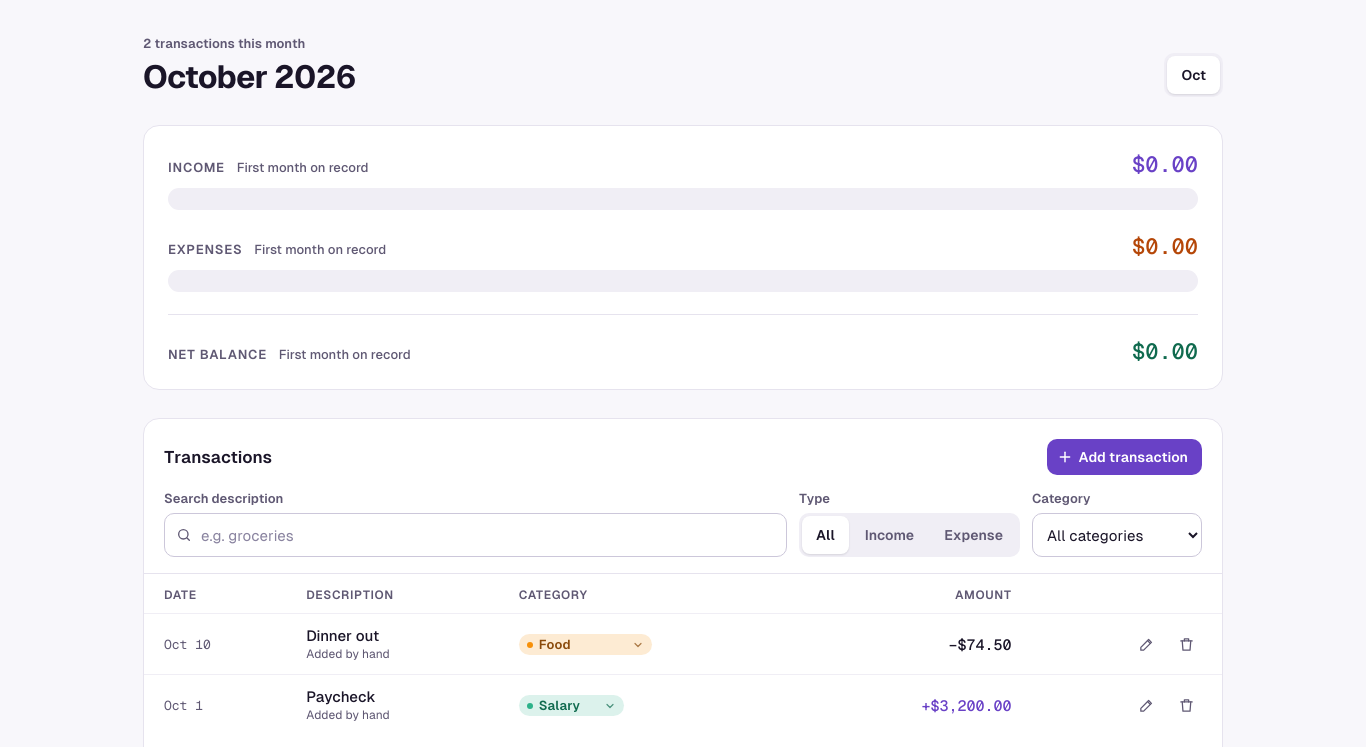
Test case: HomePage › adds a transaction from a dialog opened next to the Transactions title
Click the button "Add transaction" at (1124, 457), box top-left (1046, 439), bottom-right (1202, 475)
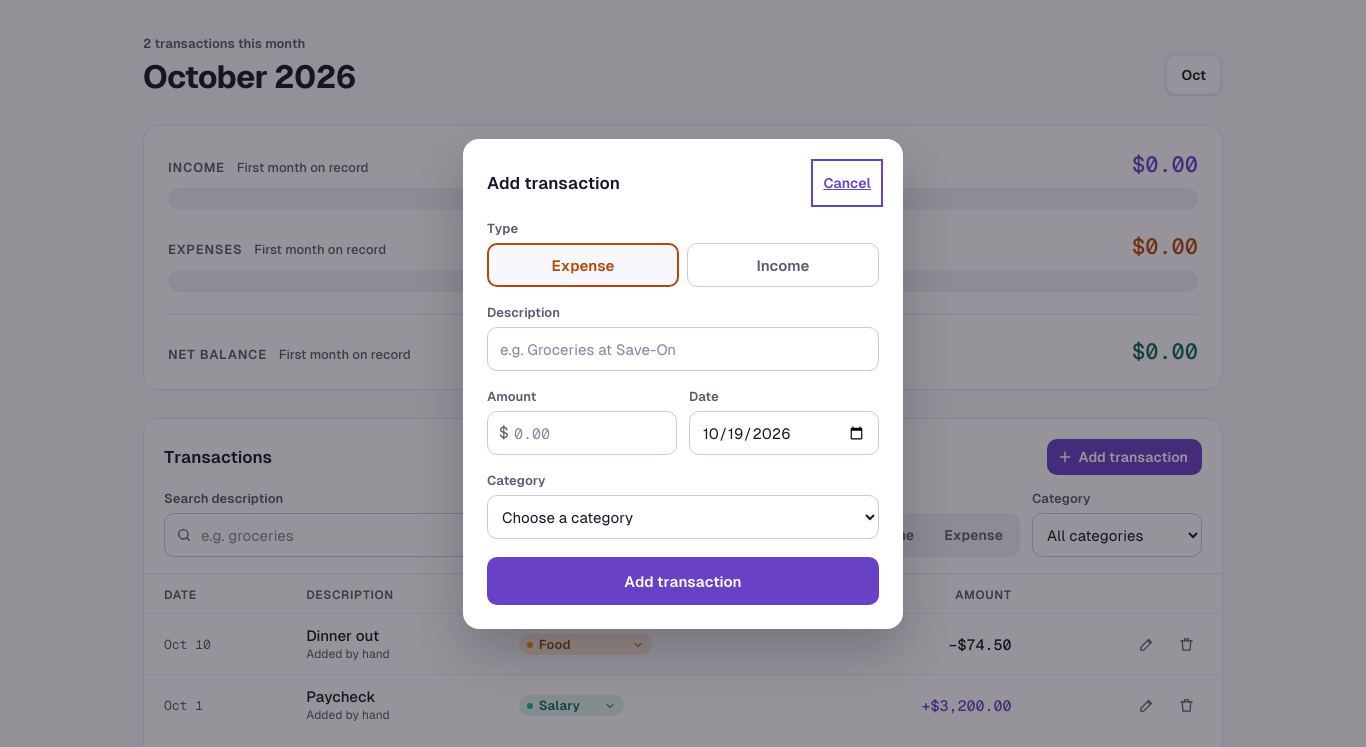
Type "Coffee" into the field labelled "Description" at (683, 349), box top-left (487, 327), bottom-right (879, 371)
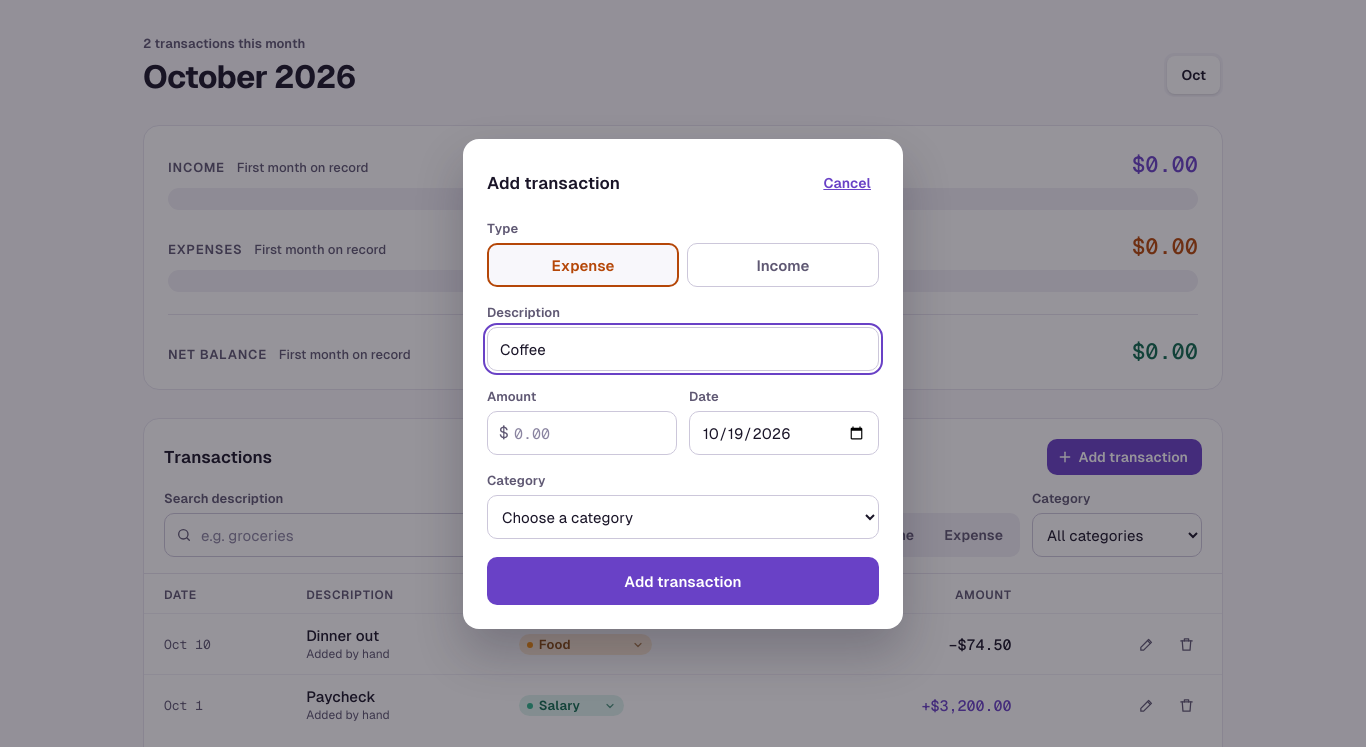
Type "4.5" into the field labelled "Amount" at (582, 433), box top-left (487, 411), bottom-right (677, 455)
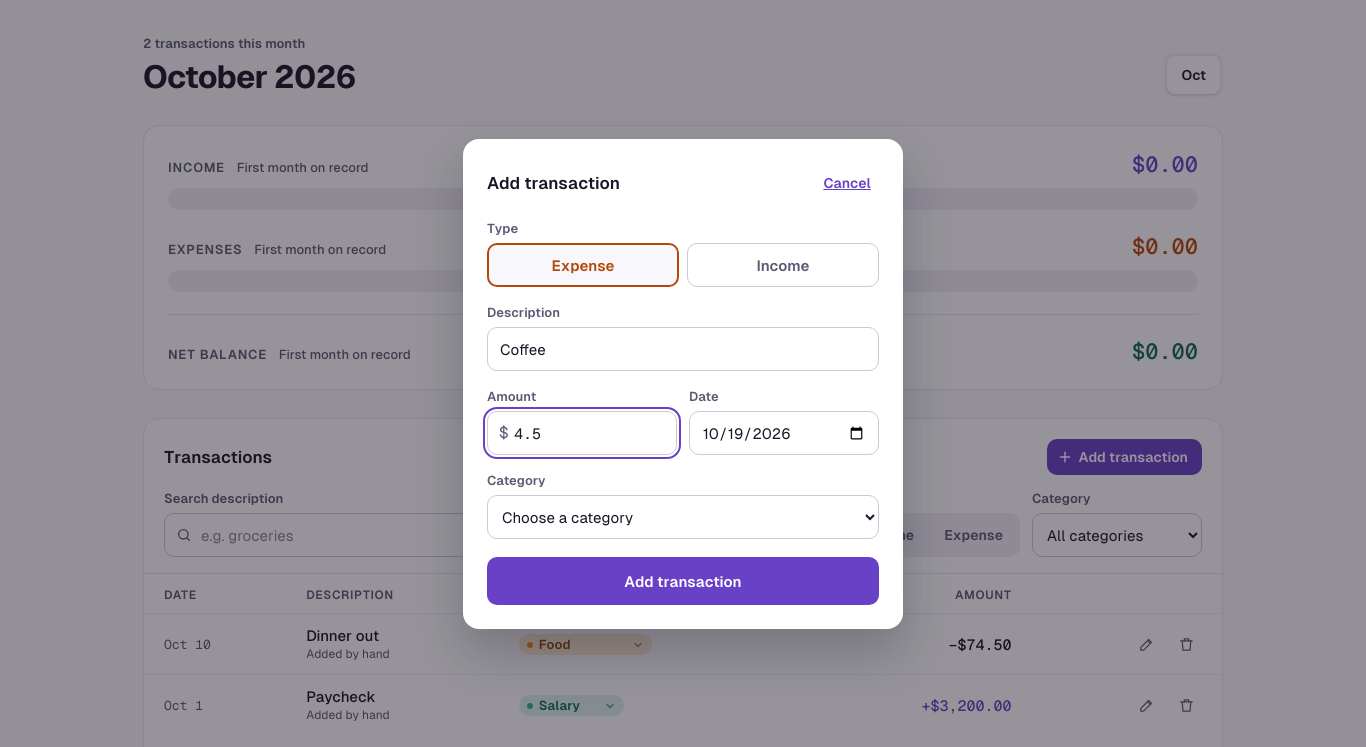
Select "Food" in the dropdown labelled "Category" at (683, 517), box top-left (487, 495), bottom-right (879, 539)
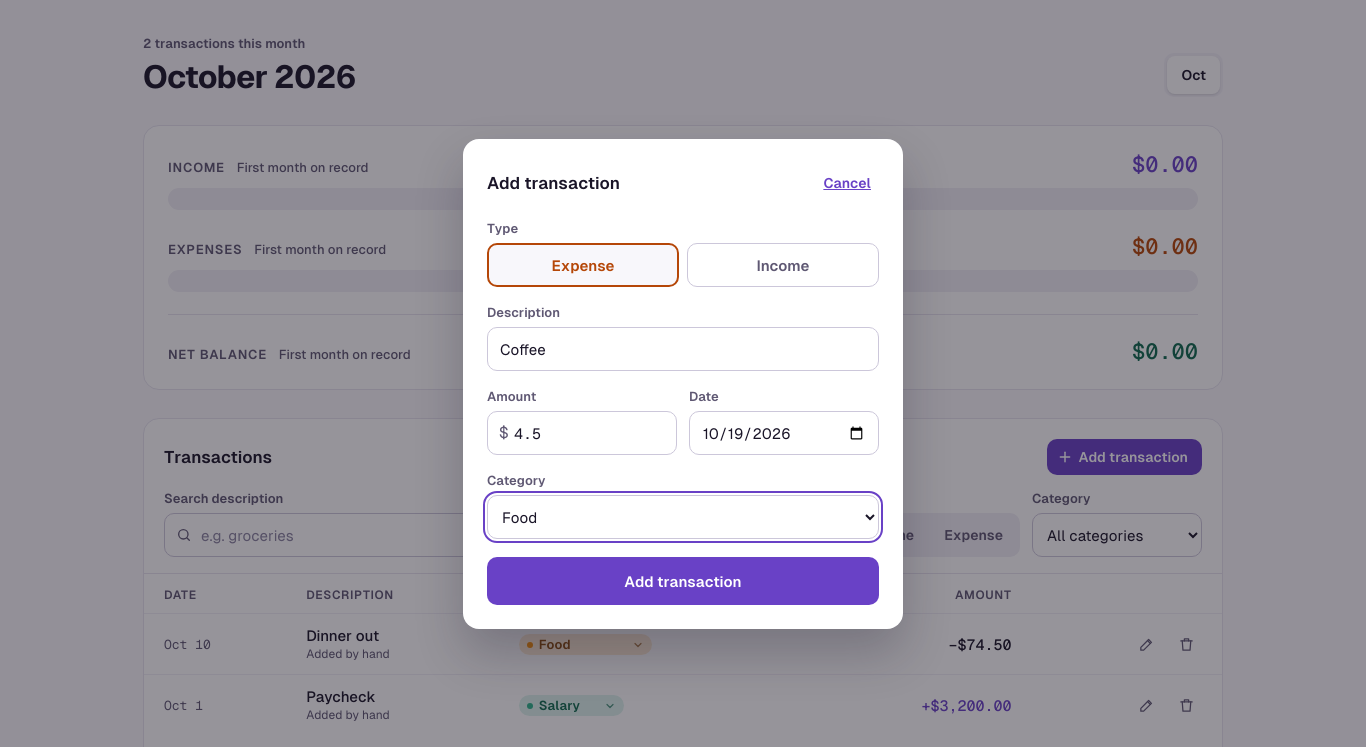
Click the button "Add transaction" at (683, 581), box top-left (487, 557), bottom-right (879, 605)
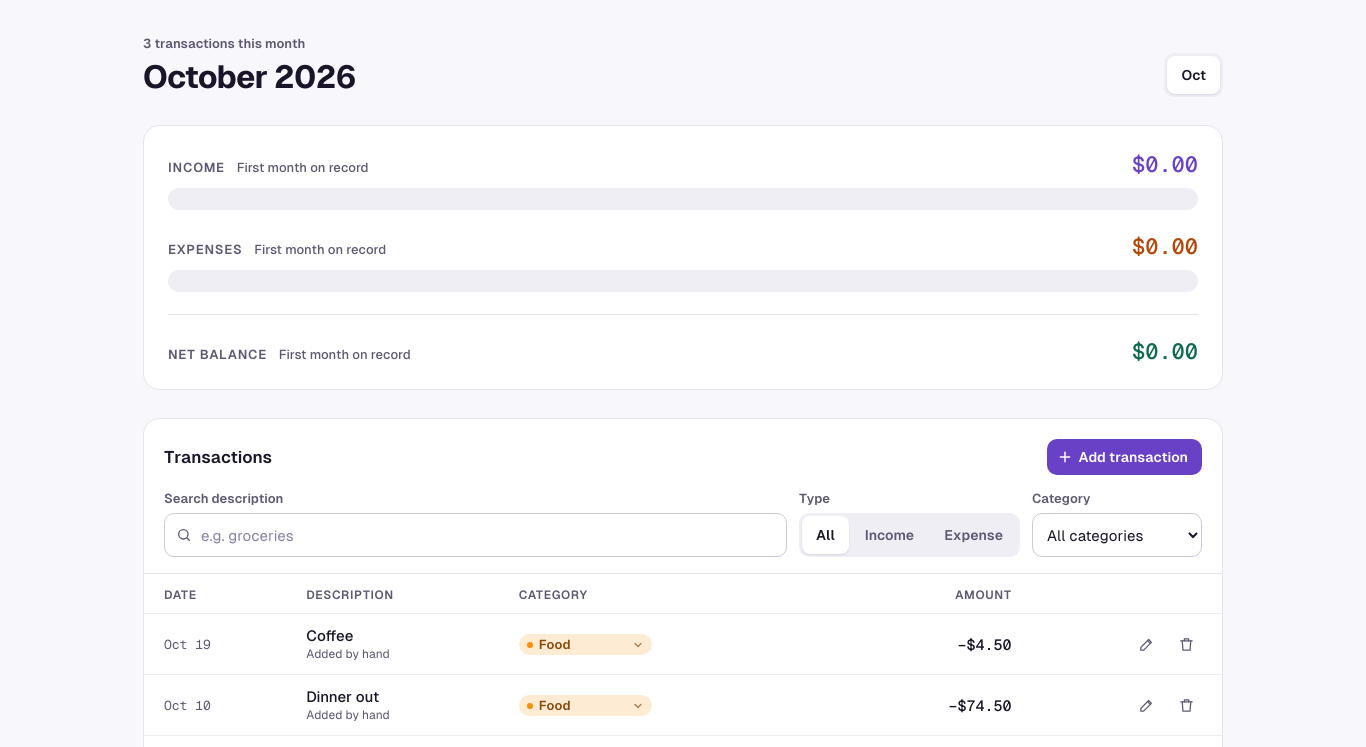
Check: the dialog is gone
